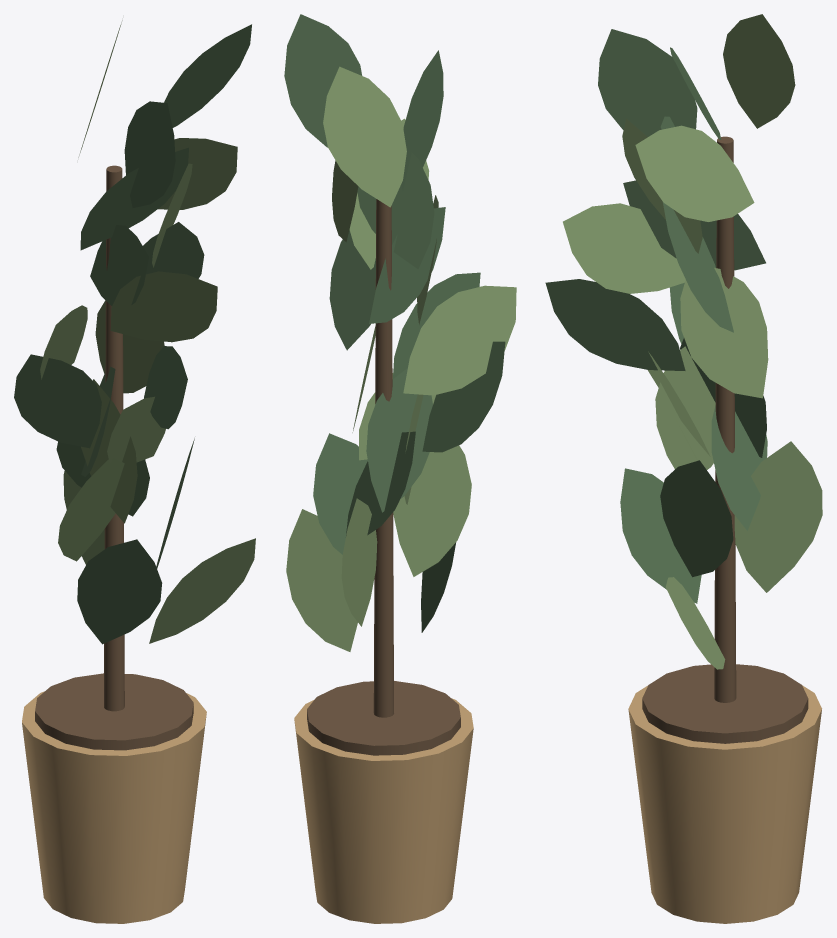
Rendered from pottedplant.glb.
3 views of the same model, side by side, from view 1: azimuth 30°, elevation 25°; view 2: azimuth 150°, elevation 25°; view 3: azimuth 270°, elevation 25° (orthographic). The views are drawn at different scales.
Visible parts, largest first — view 1: atelier-warm-pottedplant; view 2: atelier-warm-pottedplant; view 3: atelier-warm-pottedplant.
Part boxes in pixels (x1,y1,x2,y2): atelier-warm-pottedplant: (14, 20, 255, 923); atelier-warm-pottedplant: (284, 14, 516, 923); atelier-warm-pottedplant: (545, 14, 822, 923).
Size of the model in its own units: 0.2722 by 0.9802 by 0.2752.
